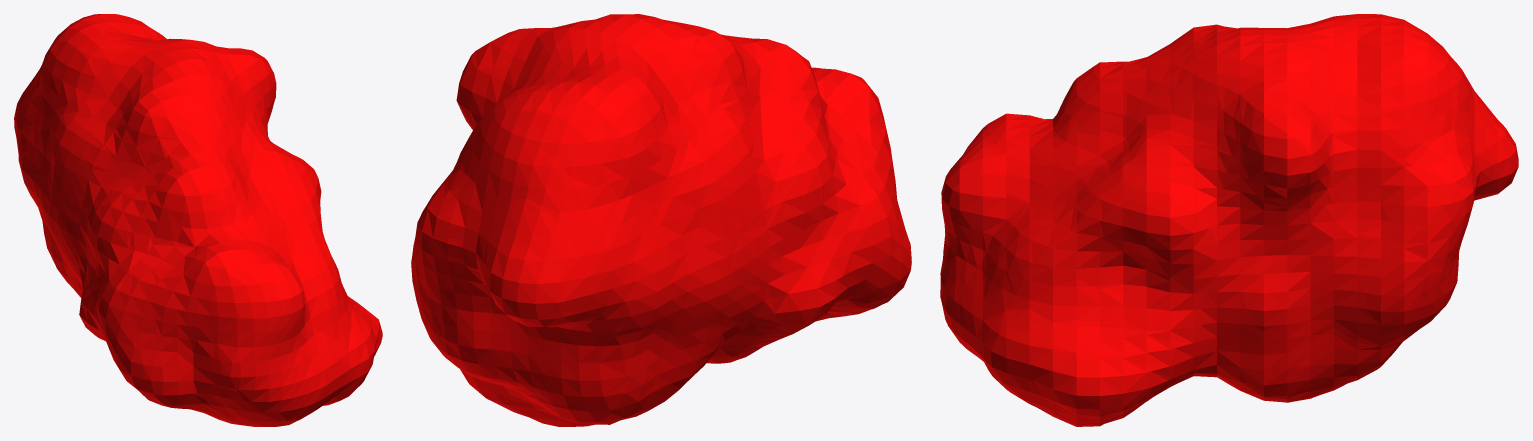
File: metQ_coarse.dae
3 views of the same model, side by side, from view 1: azimuth 30°, elevation 25°; view 2: azimuth 150°, elevation 25°; view 3: azimuth 270°, elevation 25° (orthographic). The views are drawn at different scales.
Visible parts, largest first — view 1: metQ; view 2: metQ; view 3: metQ.
Part boxes in pixels (bbox=[...]): metQ: bbox=[14, 14, 382, 426]; metQ: bbox=[411, 14, 911, 426]; metQ: bbox=[940, 14, 1518, 426].
Bounding box in the file's own units: 39.91 × 45.28 × 64.88.
